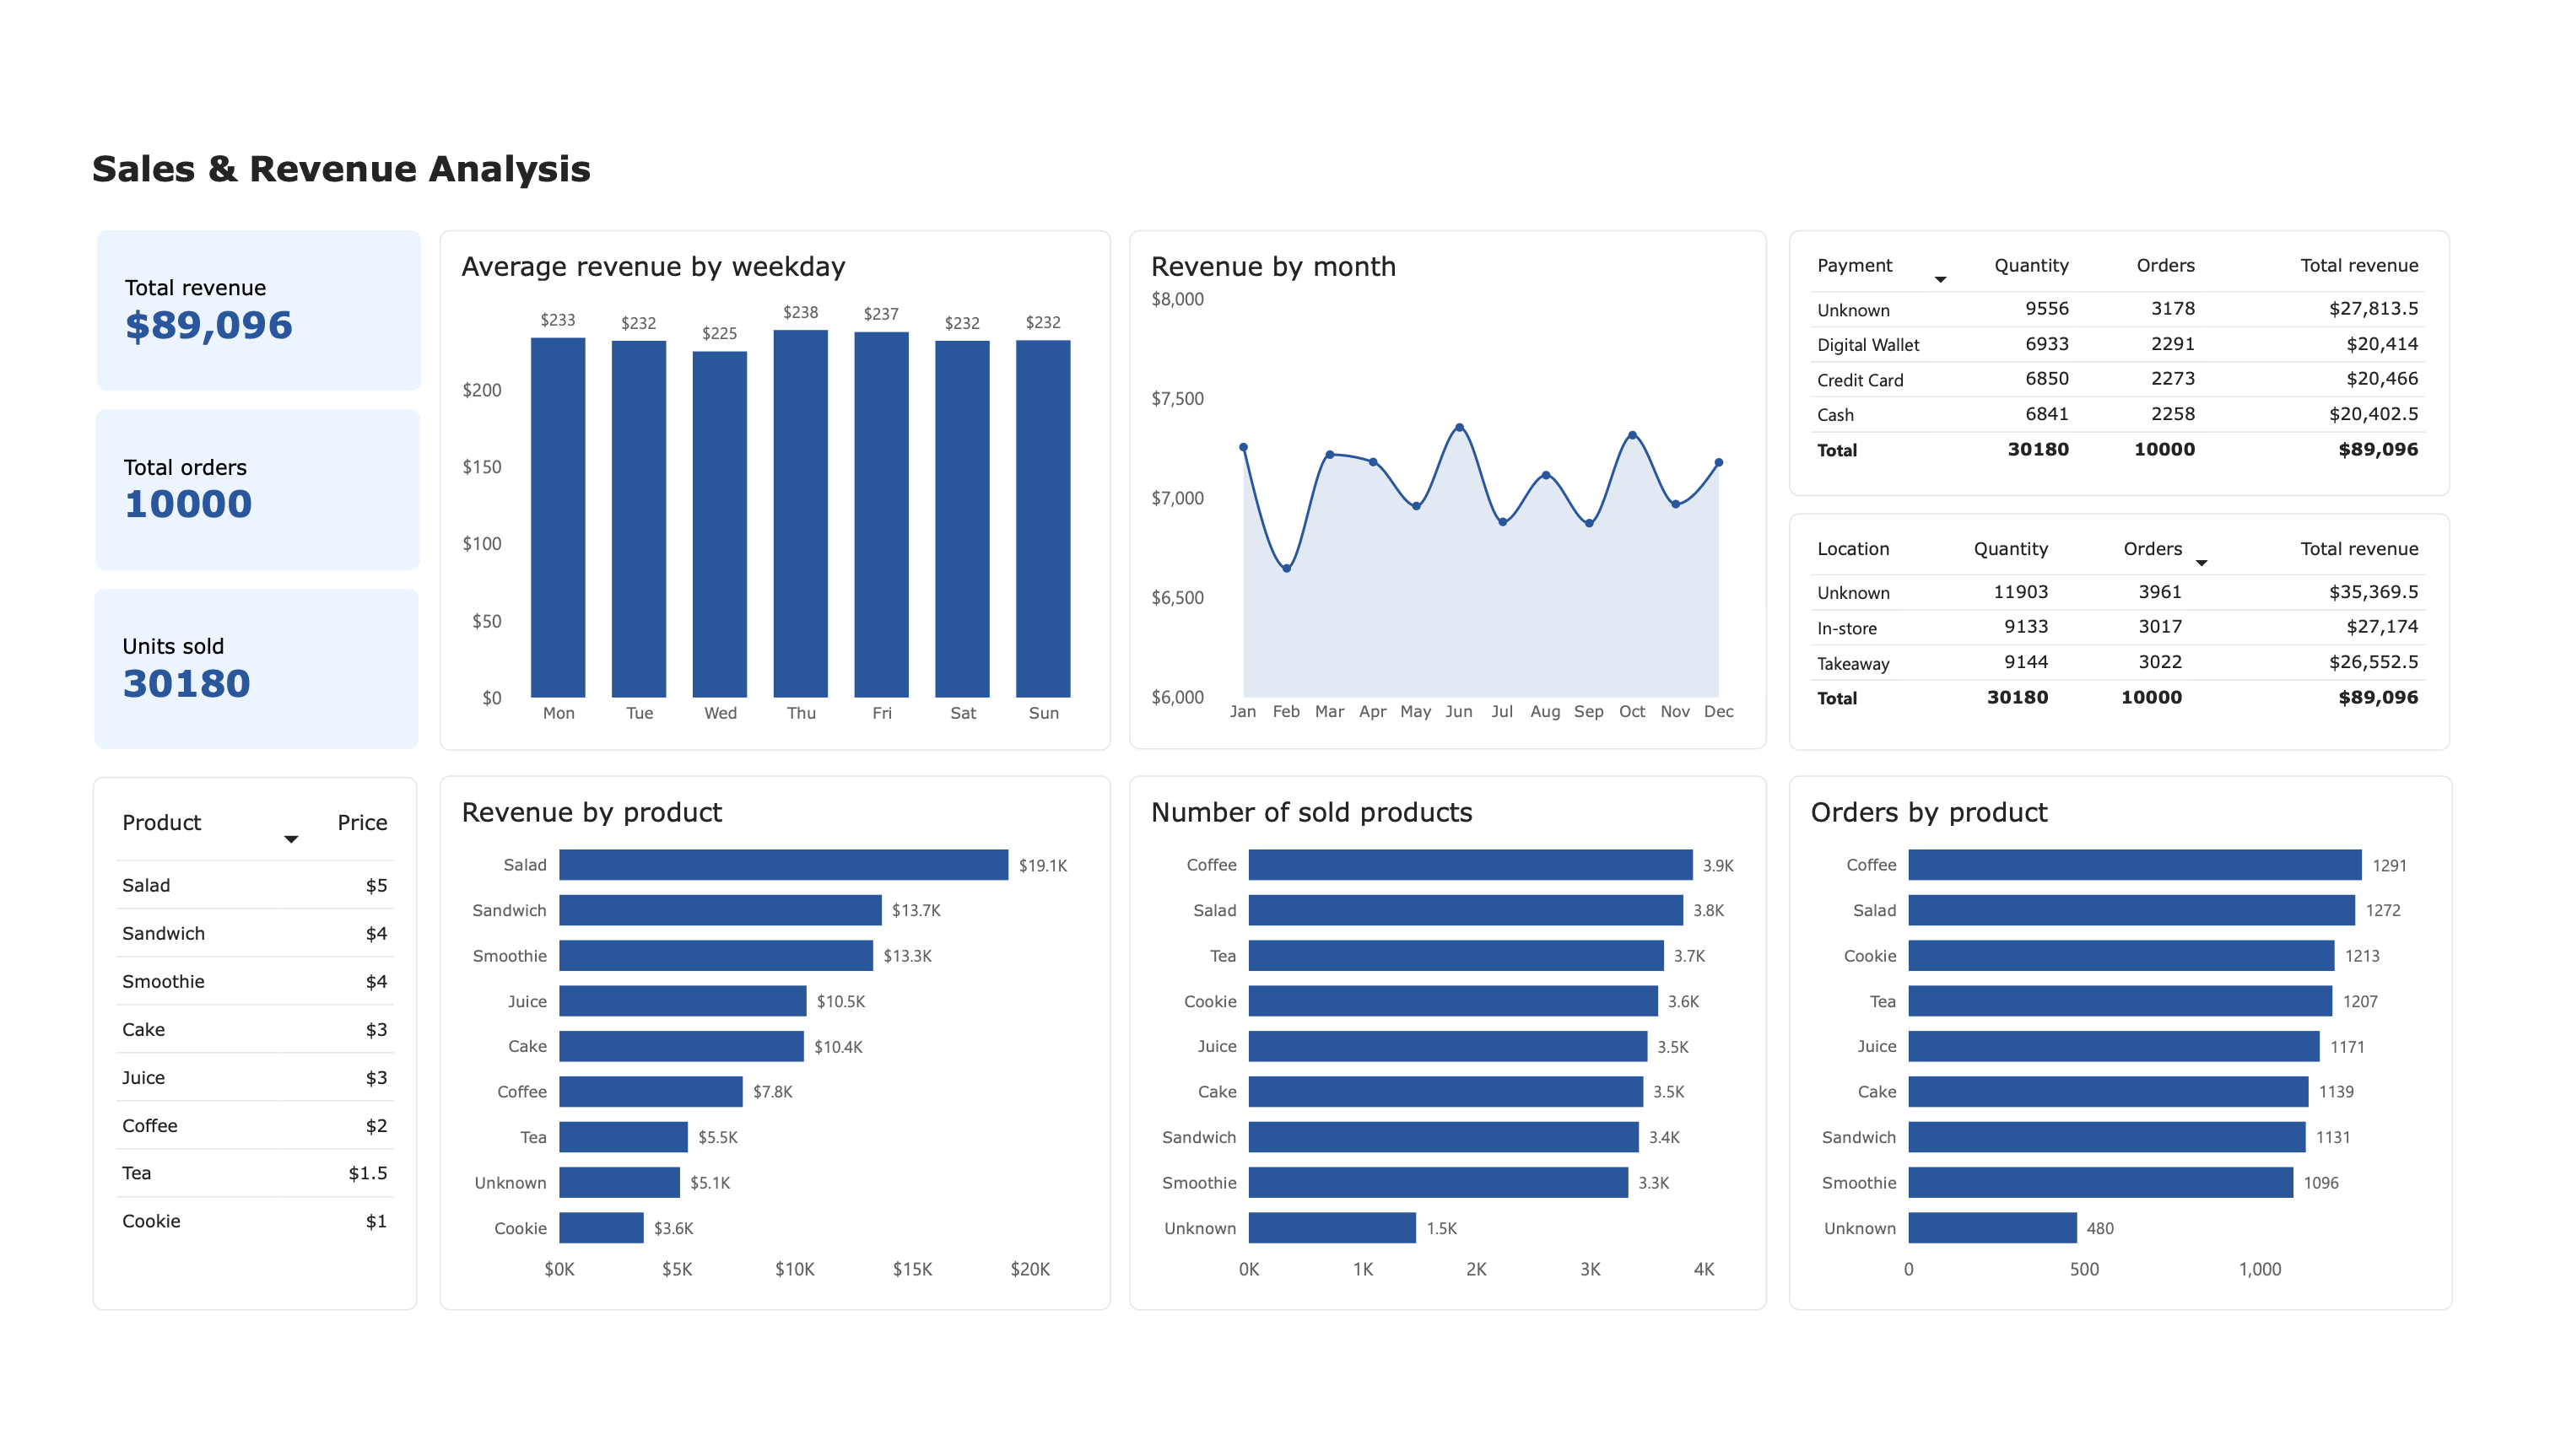

The dashboard page shown, as its layout file describes it:
{"tool":"powerbi","page":{"name":"Page 1","canvas":[1920,1080],"ordinal":0},"visuals":[{"type":"barChart","title":"Revenue by product","fields":{"Category":["cleened_cafe_sales.item"],"Y":["Sum(cleened_cafe_sales.total_spent)"]},"box":[317,576.1,517,411.4],"z":0},{"type":"barChart","title":"Number of sold products","fields":{"Category":["cleened_cafe_sales.item"],"Y":["Sum(cleened_cafe_sales.quantity)"]},"box":[847.7,576.1,490.9,411.4],"z":1000},{"type":"tableEx","fields":{"Values":["menu.item","Sum(menu.price_per_unit)"]},"box":[50,576.6,250,411.7],"z":2000},{"type":"barChart","title":"Orders by product","fields":{"Category":["cleened_cafe_sales.item"],"Y":["CountNonNull(cleened_cafe_sales.transaction_id)"]},"box":[1355.7,576.1,511.4,411.4],"z":3000},{"type":"pivotTable","fields":{"Rows":["cleened_cafe_sales.location"],"Values":["Sum(cleened_cafe_sales.quantity)","CountNonNull(cleened_cafe_sales.transaction_id)","cleened_cafe_sales.total revenue"]},"box":[1355.7,373.9,509.6,182.7],"z":4000},{"type":"pivotTable","fields":{"Rows":["cleened_cafe_sales.payment_method"],"Values":["Sum(cleened_cafe_sales.quantity)","CountNonNull(cleened_cafe_sales.transaction_id)","cleened_cafe_sales.total revenue"]},"box":[1355.7,155.7,509.6,205.8],"z":5000},{"type":"columnChart","title":"Average revenue by weekday","fields":{"Category":["cleened_cafe_sales.date_week_short"],"Y":["cleened_cafe_sales.Average Daily Revenue"]},"box":[317,156,517,401],"z":6000},{"type":"lineChart","title":"Revenue by month","fields":{"Category":["cleened_cafe_sales.month_short"],"Y":["cleened_cafe_sales.Total revenue"]},"box":[848,156,491,400],"z":7000},{"type":"textbox","box":[49.6,90.7,681.6,45.3],"z":8000},{"type":"cardVisual","fields":{"Data":["cleened_cafe_sales.total revenue"]},"box":[52.6,155.8,250,124],"z":9000},{"type":"cardVisual","fields":{"Data":["Count(cleened_cafe_sales.transaction_id)"]},"box":[51.6,293.7,250,124],"z":10000},{"type":"cardVisual","fields":{"Data":["Sum(cleened_cafe_sales.quantity)"]},"box":[50.5,431.6,250,124],"z":11000}]}

Visuals, with their boxes in screenshot pixels (x1, y1, x2, y2), scaled from the page's 1920x1080 canvas onto the 2550x1456 screenshot:
"Revenue by product" barChart: bbox=(421, 777, 1108, 1331)
"Number of sold products" barChart: bbox=(1126, 777, 1778, 1331)
tableEx - menu.item x Sum(menu.price_per_unit): bbox=(67, 777, 398, 1332)
"Orders by product" barChart: bbox=(1801, 777, 2480, 1331)
pivotTable - cleened_cafe_sales.location x Sum(cleened_cafe_sales.quantity): bbox=(1801, 504, 2477, 751)
pivotTable - cleened_cafe_sales.payment_method x Sum(cleened_cafe_sales.quantity): bbox=(1801, 210, 2477, 488)
"Average revenue by weekday" columnChart: bbox=(421, 210, 1108, 751)
"Revenue by month" lineChart: bbox=(1126, 210, 1779, 750)
textbox: bbox=(66, 122, 971, 183)
cardVisual - cleened_cafe_sales.total revenue: bbox=(70, 210, 402, 377)
cardVisual - Count(cleened_cafe_sales.transaction_id): bbox=(68, 396, 401, 564)
cardVisual - Sum(cleened_cafe_sales.quantity): bbox=(67, 582, 399, 749)
